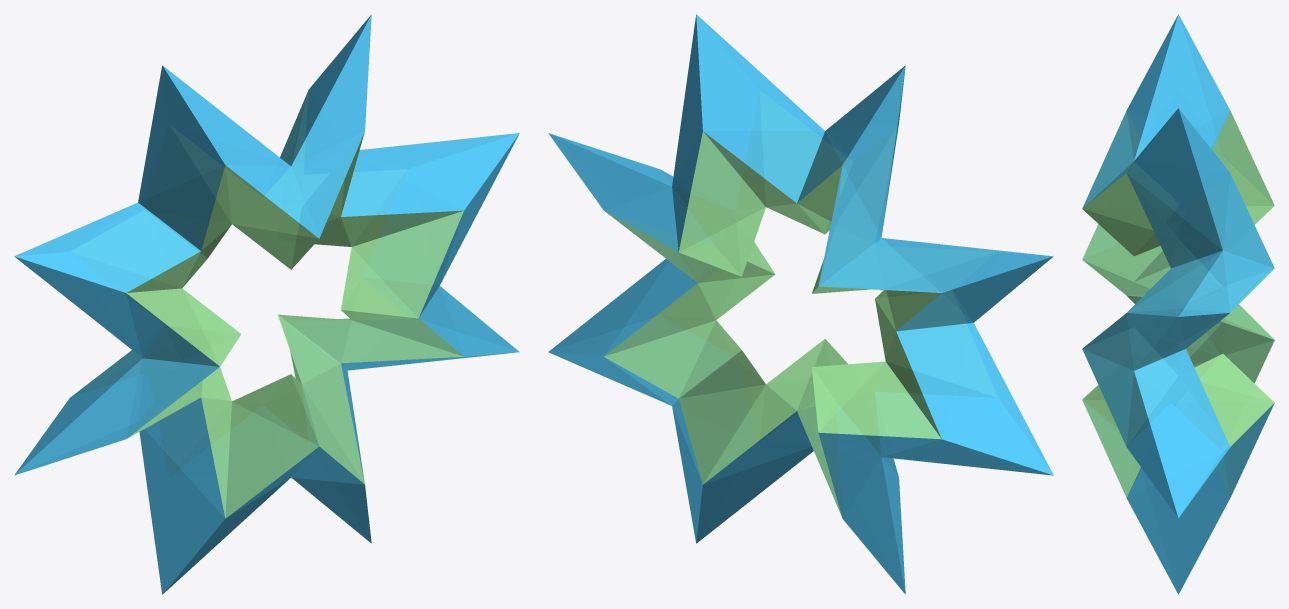
Rendered from Regular8TetragonalStarToroidSin.obj.
3 renders of one model, left to right at view 1: azimuth 30°, elevation 25°; view 2: azimuth 150°, elevation 25°; view 3: azimuth 270°, elevation 25°, orthographic. The views are drawn at different scales.
Bounding box in the file's own units: 3.62 × 3.62 × 1.3.
